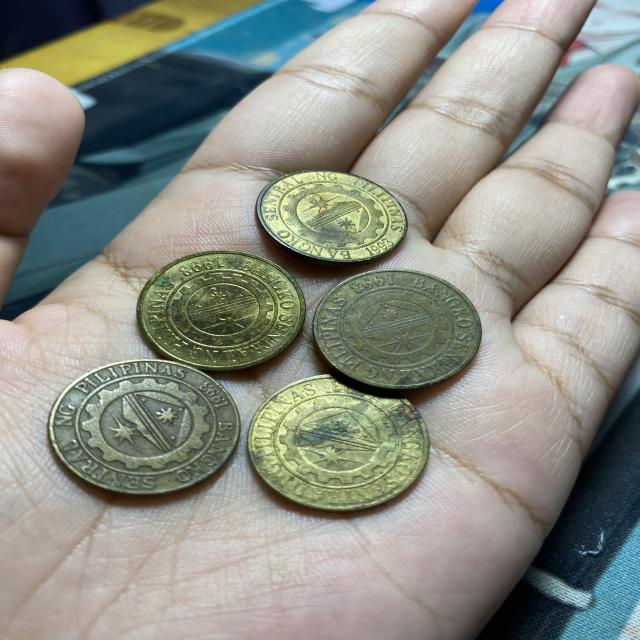25Cent_Old_Back: (48, 364, 230, 494), (262, 384, 417, 514), (140, 253, 304, 364), (322, 276, 484, 388), (259, 168, 402, 260)
